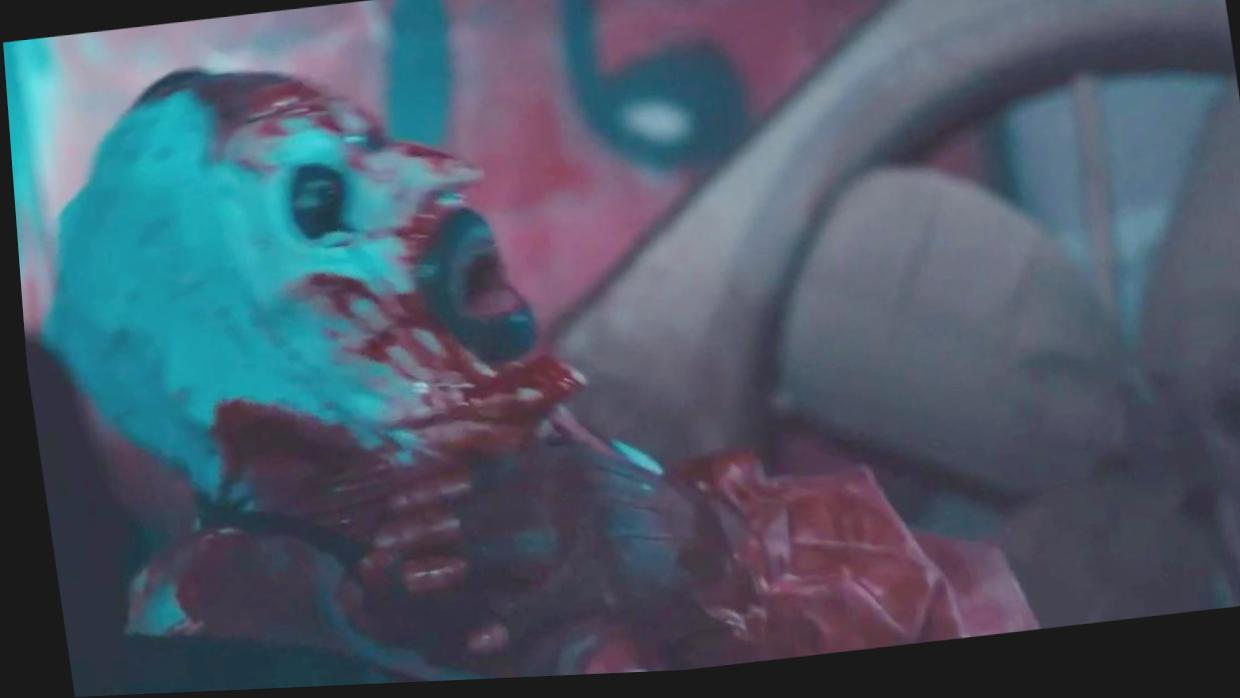Fire: (118, 73, 586, 685), (670, 457, 1030, 668)
